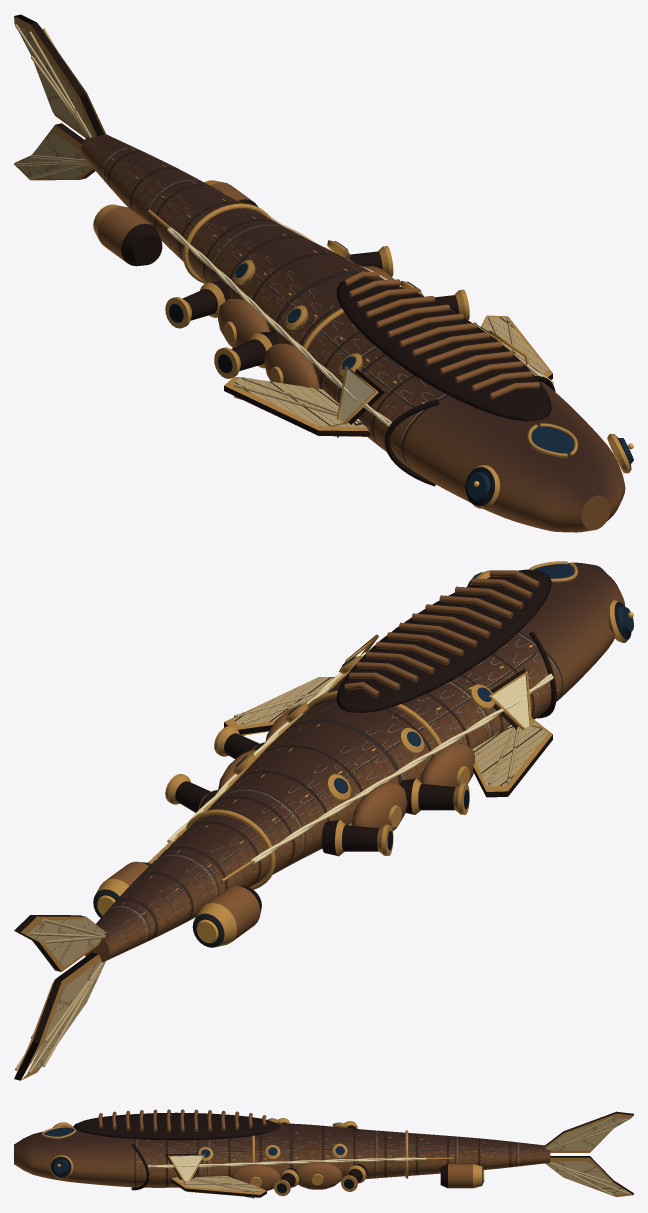
3 views of the same model, one above another, from view 1: azimuth 30°, elevation 25°; view 2: azimuth 150°, elevation 25°; view 3: azimuth 270°, elevation 25° (orthographic). The views are drawn at different scales.
Visible parts, largest first — view 1: remora_hull; view 2: remora_hull; view 3: remora_hull.
Part boxes in pixels (bbox=[...]): remora_hull: bbox=[14, 14, 633, 532]; remora_hull: bbox=[14, 561, 633, 1080]; remora_hull: bbox=[14, 1109, 633, 1198].
Size of the model in its own units: 10.78 by 5.66 by 38.
1 material, 1 textured.
